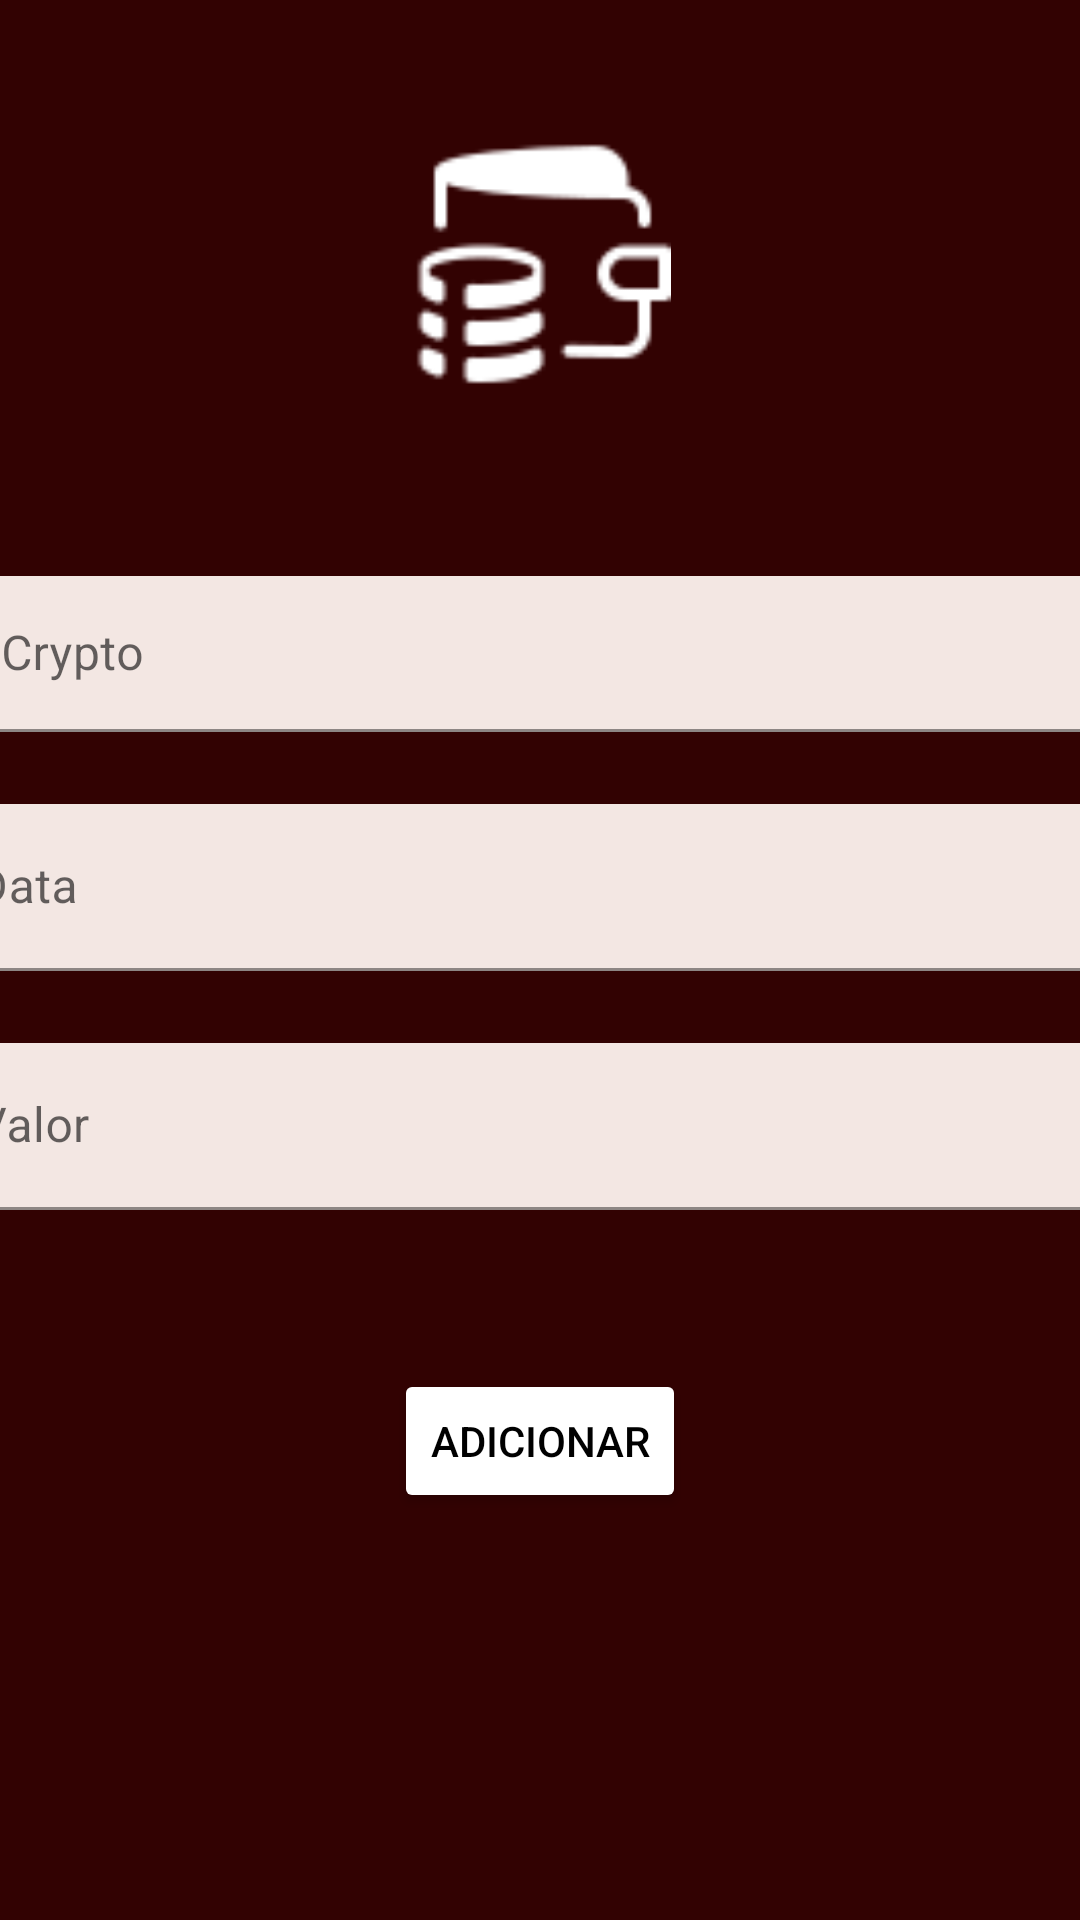

Named icons in this screenshot (1080x1920) and their bounding boxes, bbox=[x1, y1, x2, y2]:
carteira de moedas: bbox=[417, 144, 671, 384]
